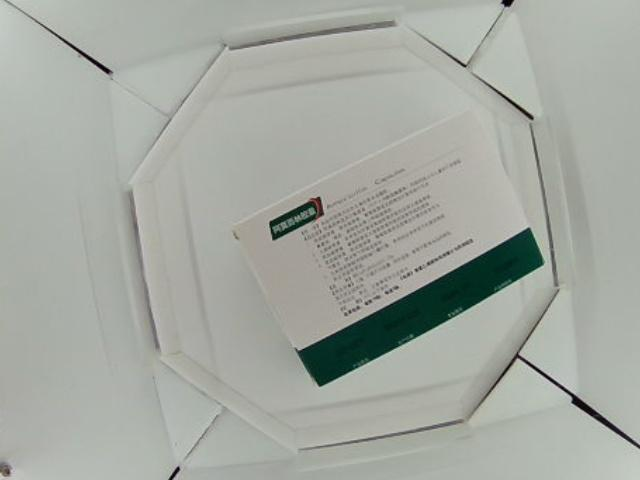Medicine: (234, 108, 546, 386)
